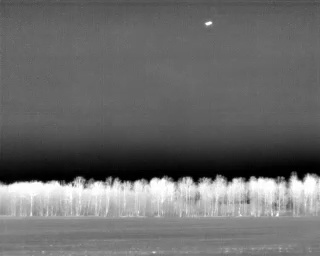DRONE: (202, 17, 216, 30)
